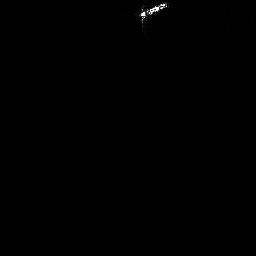ship: (139, 2, 168, 17)
